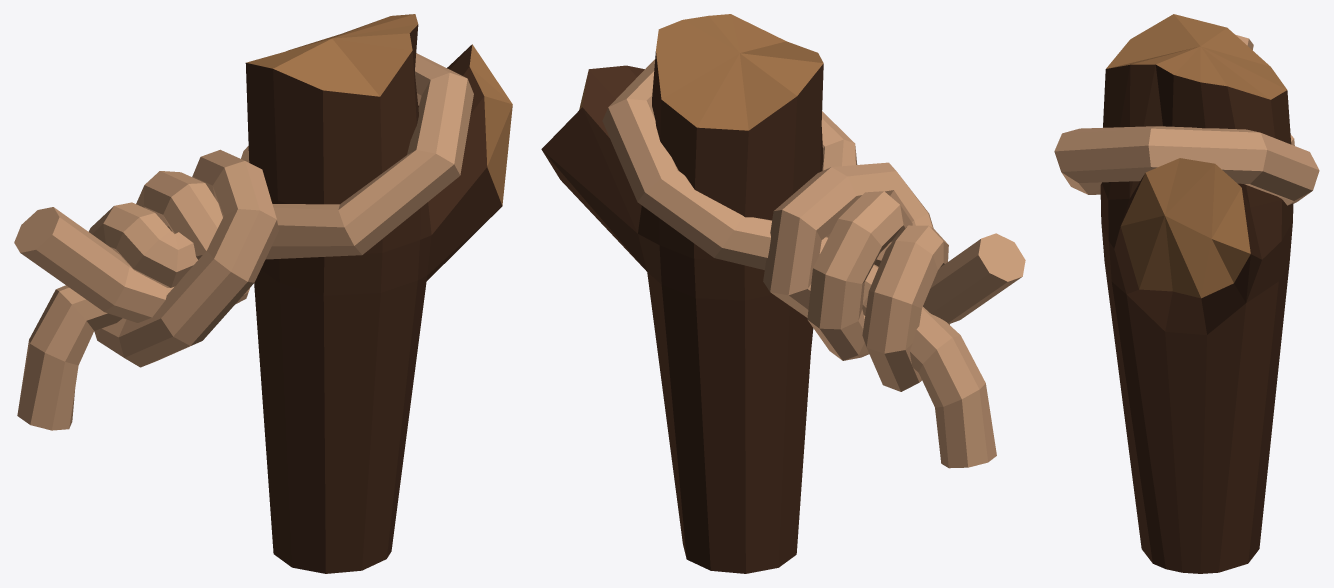
The model's file is TripeWireRopStakeBroken.fbx.
3 renders of one model, left to right at view 1: azimuth 30°, elevation 25°; view 2: azimuth 150°, elevation 25°; view 3: azimuth 270°, elevation 25°, orthographic. The views are drawn at different scales.
Visible parts, largest first — view 1: TripeWireRopStakeBroken; view 2: TripeWireRopStakeBroken; view 3: TripeWireRopStakeBroken.
Part boxes in pixels (x1,y1,x2,y2): TripeWireRopStakeBroken: [14, 14, 512, 573]; TripeWireRopStakeBroken: [541, 14, 1025, 573]; TripeWireRopStakeBroken: [1054, 14, 1319, 573].
Size of the model in its own units: 28.58 by 29.52 by 13.89.
